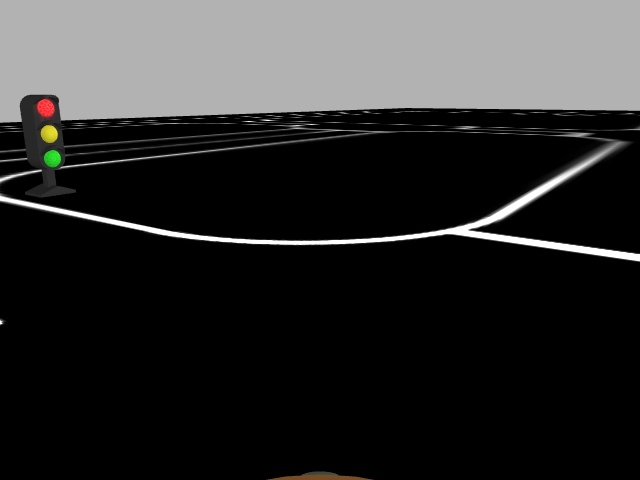red_light: (31, 94, 64, 170)
